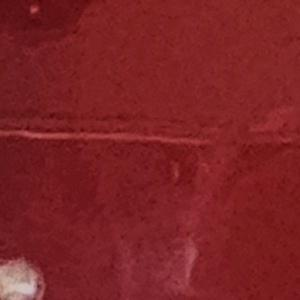colony: (0, 248, 55, 300)
